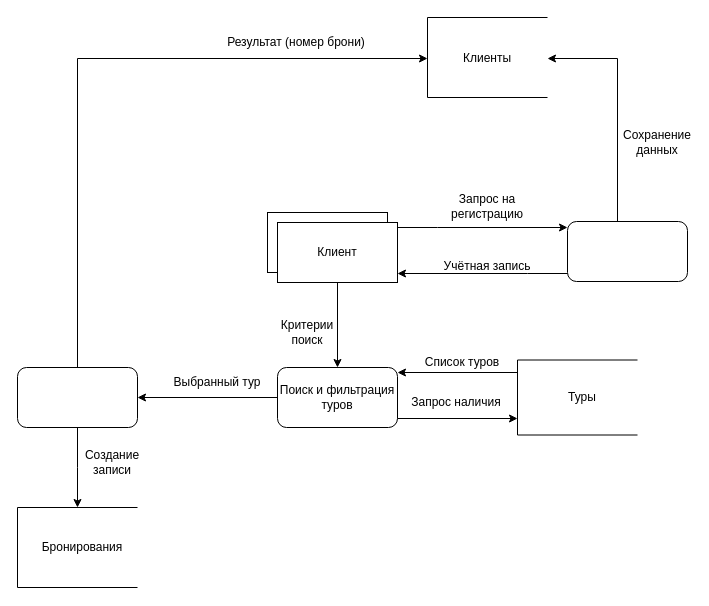
Image size: 709x606. Some labels were removed from this diagram. The shapes that lost their labels are listed below. From the top down, each one's centre as x and y in pixels, then its label:
At point 627,251: "Регистрация в системе".
At point 77,397: "Оформление бронирования".
